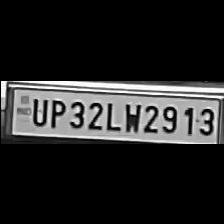1: (178, 102, 196, 136)
2: (84, 97, 104, 129), (140, 100, 158, 132)
3: (195, 102, 215, 136), (66, 96, 84, 128)
9: (158, 101, 178, 133)
L: (102, 98, 120, 130)
P: (46, 95, 64, 127)
U: (28, 95, 46, 125)
W: (120, 99, 140, 131)
